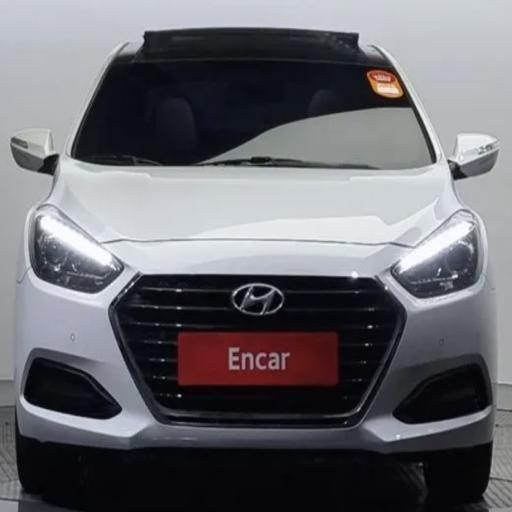normal: (10, 9, 509, 507)
